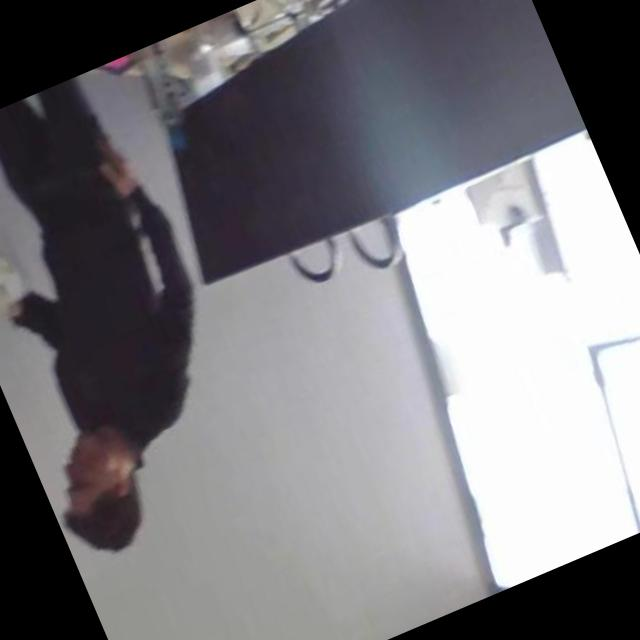bareface: (22, 394, 164, 562)
